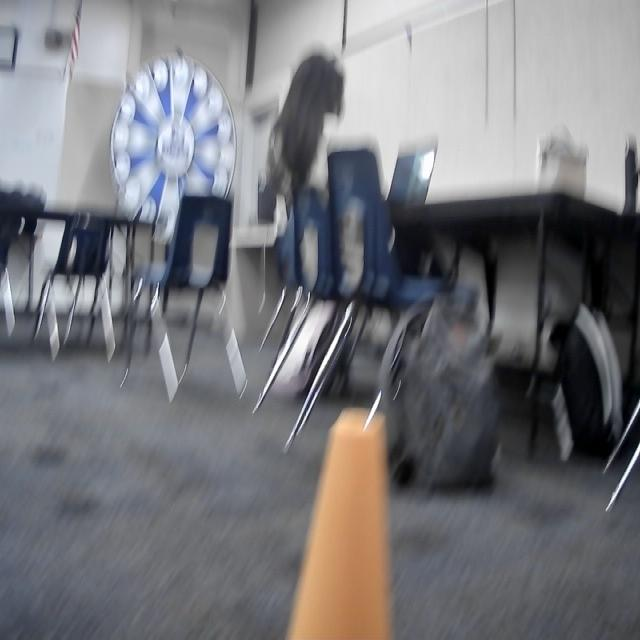cone: (281, 407, 395, 640)
